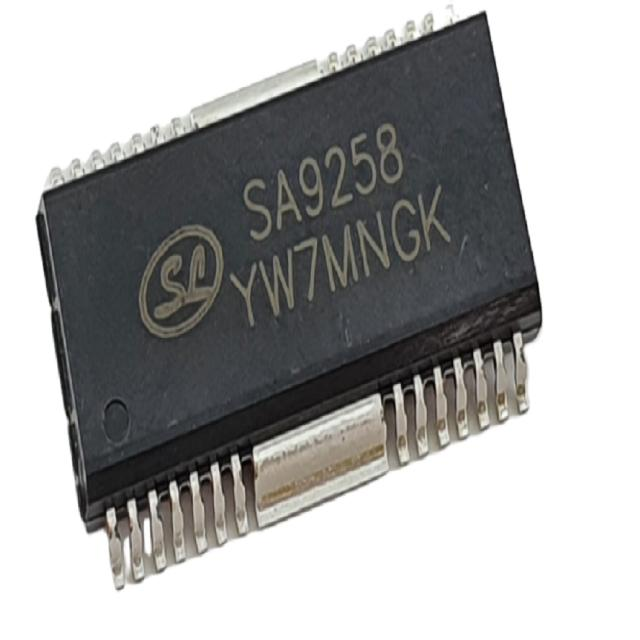IC: (37, 2, 540, 593)
